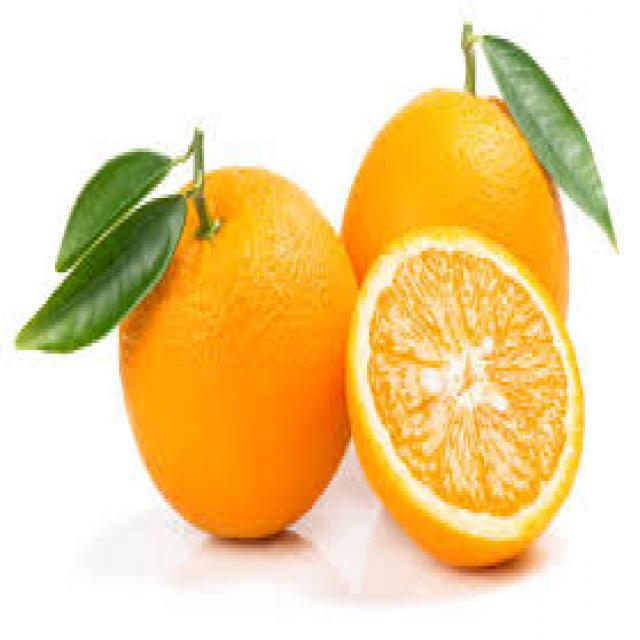orange: (115, 163, 353, 552), (349, 230, 592, 576), (347, 82, 594, 326)
